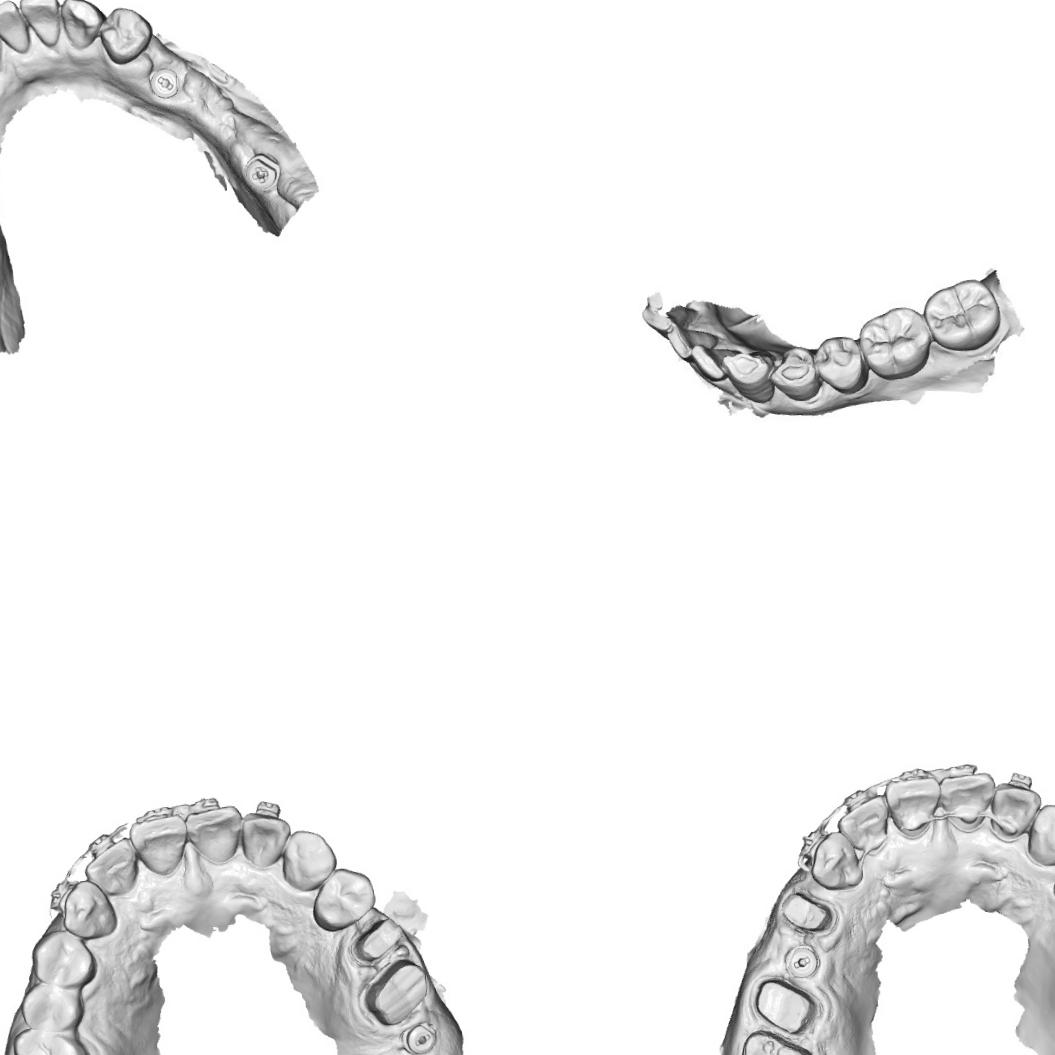canine: (277, 825, 340, 894), (806, 825, 866, 892), (58, 876, 118, 941), (720, 345, 772, 406), (57, 0, 107, 53), (1022, 800, 1055, 869)
crown: (742, 965, 830, 1043), (358, 953, 434, 1029), (771, 885, 844, 940), (348, 912, 406, 966)
implant: (144, 62, 181, 103)
implant_minus: (780, 938, 822, 982), (399, 1018, 439, 1055)
implant_plus: (238, 148, 285, 196)
incisor: (931, 765, 999, 835), (127, 812, 192, 880), (181, 801, 246, 868), (80, 834, 144, 900), (984, 778, 1046, 846), (882, 773, 944, 840), (834, 790, 891, 856), (237, 808, 295, 870), (664, 320, 726, 361), (16, 0, 64, 51), (0, 0, 30, 57), (690, 344, 728, 384)
molar: (922, 273, 1006, 354), (854, 300, 933, 382), (9, 1020, 94, 1055), (734, 1024, 821, 1055)
premolar: (307, 864, 379, 936), (28, 924, 99, 990), (17, 978, 88, 1036), (95, 2, 157, 67), (814, 330, 870, 398), (768, 345, 819, 405)
